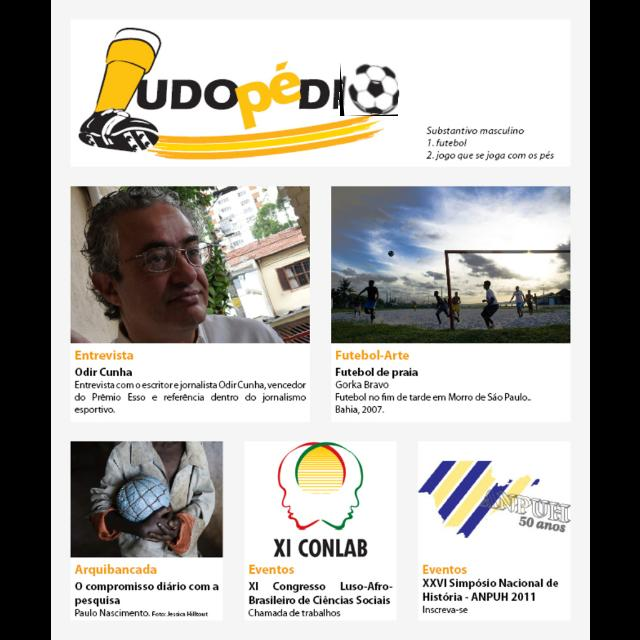Football: (340, 62, 398, 116)
